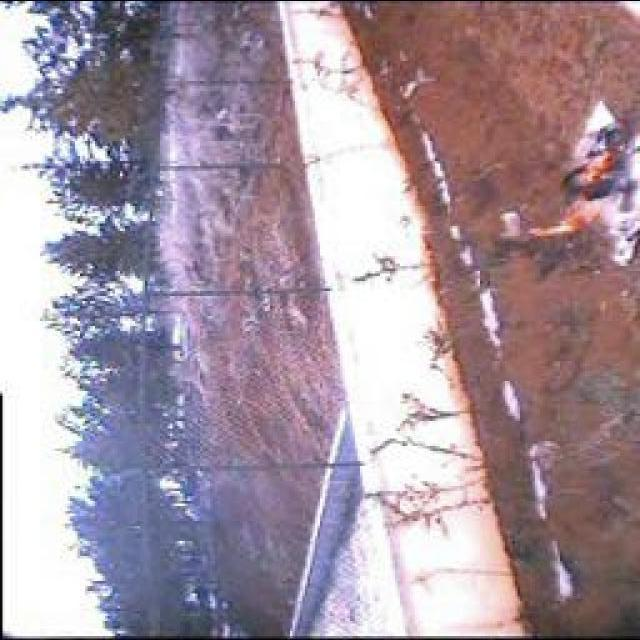Fire: (528, 136, 632, 236)
